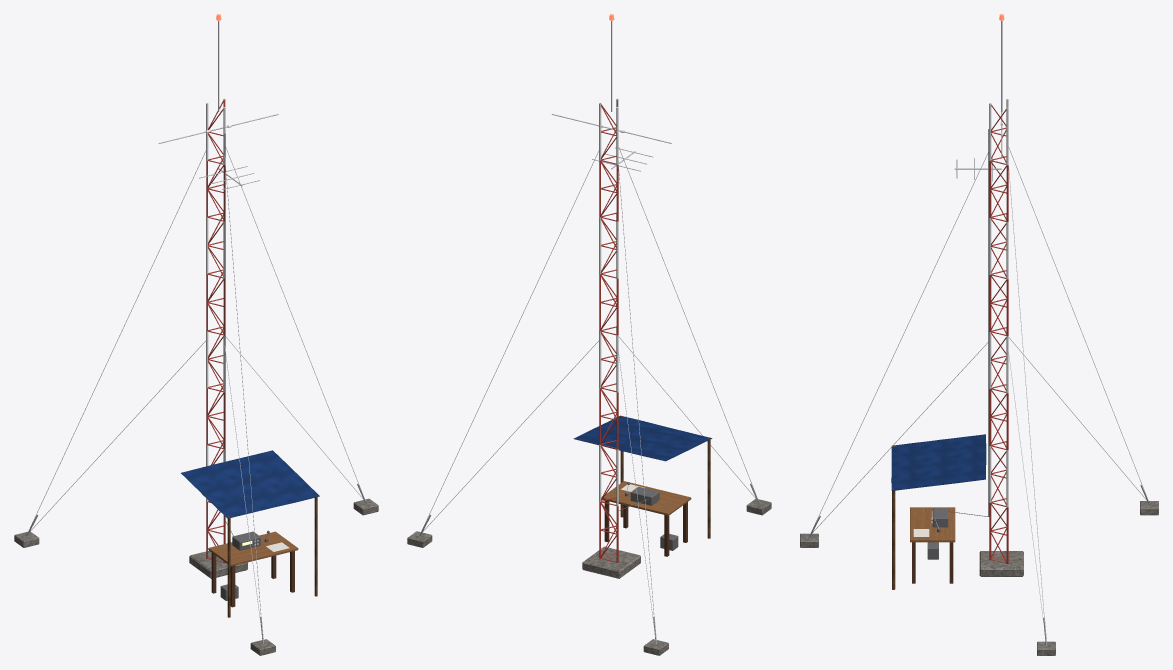
The model's file is torre_radio.glb.
3 views of the same model, side by side, from view 1: azimuth 30°, elevation 25°; view 2: azimuth 150°, elevation 25°; view 3: azimuth 270°, elevation 25° (orthographic).
Visible parts, largest first — view 1: torre_radio_lona_azul, torre_radio_aco, torre_radio_mastro_vermelho, torre_radio_concreto, torre_radio_madeira, torre_radio_plastico_preto, torre_radio_mastro_branco, torre_radio_madeira_escura, torre_radio_madeira_lenha; view 2: torre_radio_mastro_vermelho, torre_radio_lona_azul, torre_radio_aco, torre_radio_concreto, torre_radio_mastro_branco, torre_radio_madeira, torre_radio_madeira_escura, torre_radio_plastico_preto, torre_radio_madeira_lenha; view 3: torre_radio_lona_azul, torre_radio_mastro_vermelho, torre_radio_aco, torre_radio_concreto, torre_radio_mastro_branco, torre_radio_plastico_preto, torre_radio_madeira.
Part boxes in pixels (<box>): torre_radio_lona_azul: <box>181,450,319,518</box>; torre_radio_aco: <box>27,20,364,642</box>; torre_radio_mastro_vermelho: <box>206,99,225,562</box>; torre_radio_concreto: <box>14,498,378,655</box>; torre_radio_madeira: <box>208,531,298,566</box>; torre_radio_plastico_preto: <box>220,133,269,600</box>; torre_radio_mastro_branco: <box>206,98,225,501</box>; torre_radio_madeira_escura: <box>211,551,294,607</box>; torre_radio_madeira_lenha: <box>227,495,317,617</box>; torre_radio_mastro_vermelho: <box>599,99,618,562</box>; torre_radio_lona_azul: <box>573,415,712,461</box>; torre_radio_aco: <box>421,20,757,642</box>; torre_radio_concreto: <box>407,499,771,655</box>; torre_radio_mastro_branco: <box>599,98,618,506</box>; torre_radio_madeira: <box>601,481,691,515</box>; torre_radio_madeira_escura: <box>604,500,687,556</box>; torre_radio_plastico_preto: <box>619,482,678,550</box>; torre_radio_madeira_lenha: <box>620,416,710,538</box>; torre_radio_lona_azul: <box>891,434,986,490</box>; torre_radio_mastro_vermelho: <box>989,103,1008,564</box>; torre_radio_aco: <box>809,20,1148,643</box>; torre_radio_concreto: <box>800,501,1158,655</box>; torre_radio_mastro_branco: <box>989,98,1008,507</box>; torre_radio_plastico_preto: <box>927,129,989,559</box>; torre_radio_madeira: <box>910,507,955,542</box>.
Bounding box in the file's own units: 5.6 × 9.74 × 5.7.
15 materials, 5 textured.
